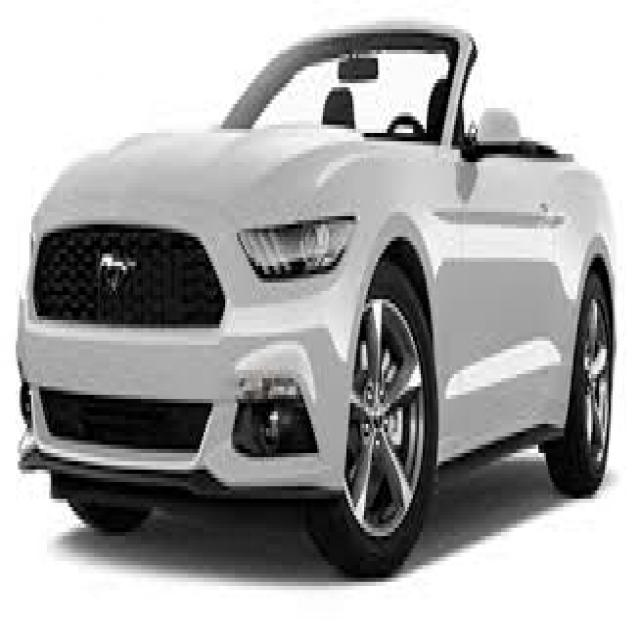Car: (22, 27, 624, 576)
